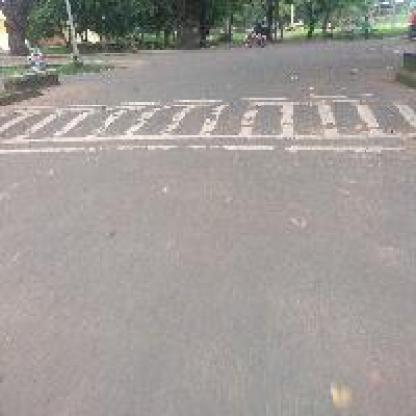Speed Bump: (0, 94, 408, 156)
